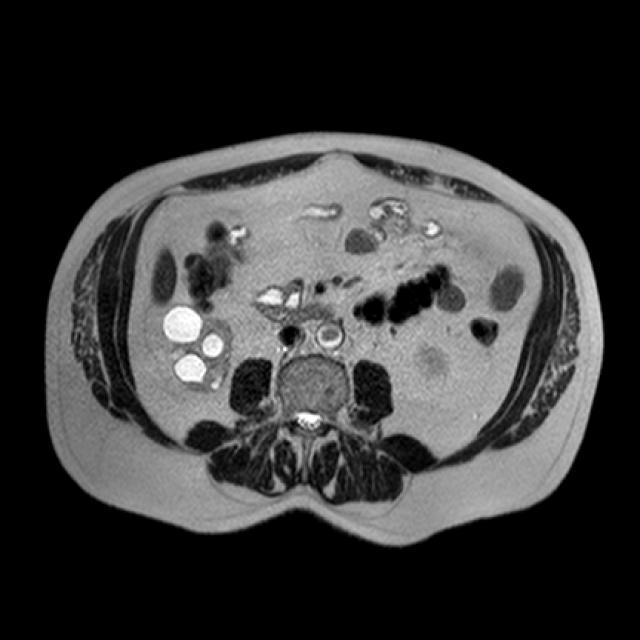sag: (163, 303, 236, 395)
sol: (418, 343, 452, 381)
